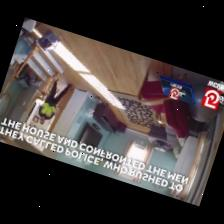person: (39, 79, 71, 123)
